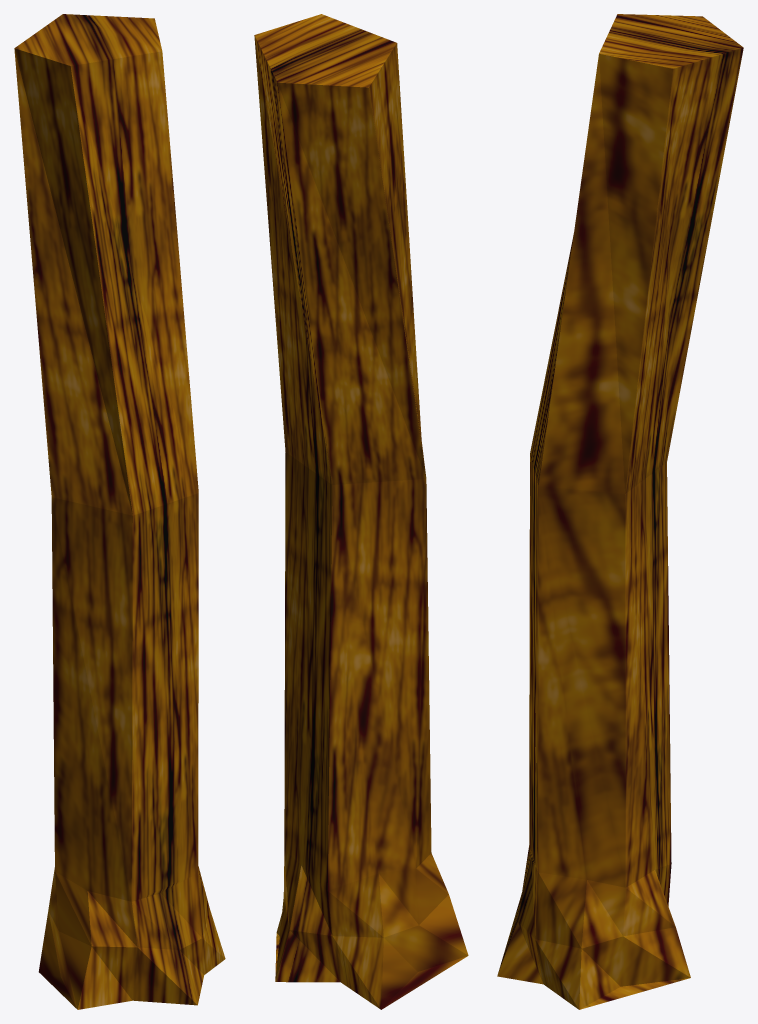
The model's file is MTree_10.gltf.
The picture shows the model from 3 angles, left to right: view 1: azimuth 30°, elevation 25°; view 2: azimuth 150°, elevation 25°; view 3: azimuth 270°, elevation 25°; orthographic projection. The views are drawn at different scales.
Visible parts, largest first — view 1: MTree_10; view 2: MTree_10; view 3: MTree_10.
Boxes of the visible parts, x1=… form: MTree_10: x1=14, y1=14, x2=225, y2=1009; MTree_10: x1=254, y1=14, x2=468, y2=1009; MTree_10: x1=497, y1=14, x2=743, y2=1009.
Bounding box in the file's own units: 3.08 × 16.21 × 3.86.
1 material, 1 textured.
